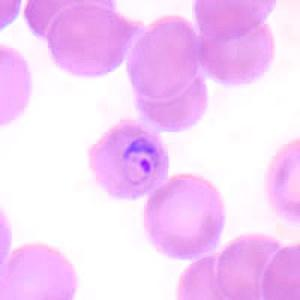Infected: (87, 120, 168, 201)
Uninfected: (42, 3, 145, 74), (145, 173, 224, 262), (128, 14, 199, 98), (202, 10, 274, 87), (219, 230, 293, 300), (132, 61, 207, 128), (1, 242, 80, 300), (193, 0, 277, 42)
